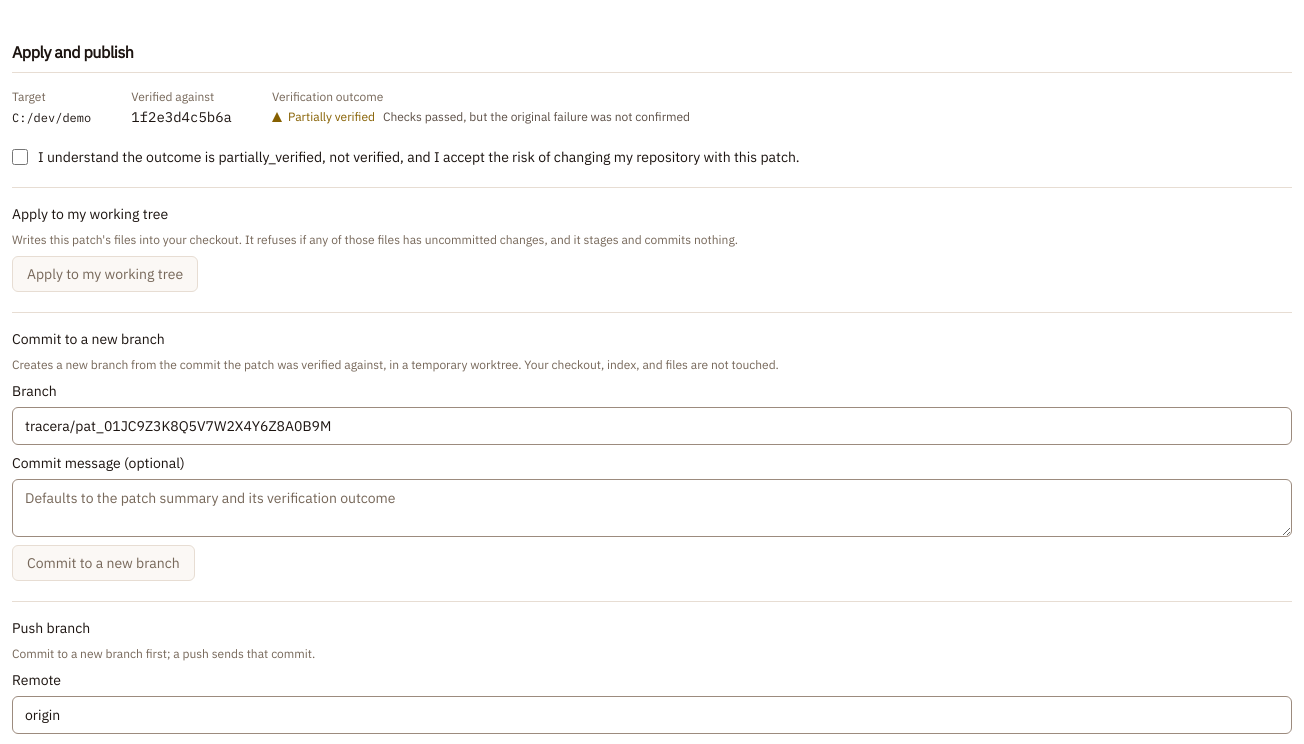
Test: the apply and publish panel › puts the unverified outcome in the acknowledgement and sends it
Click the checkbox: (20, 157) [12, 149, 28, 165]
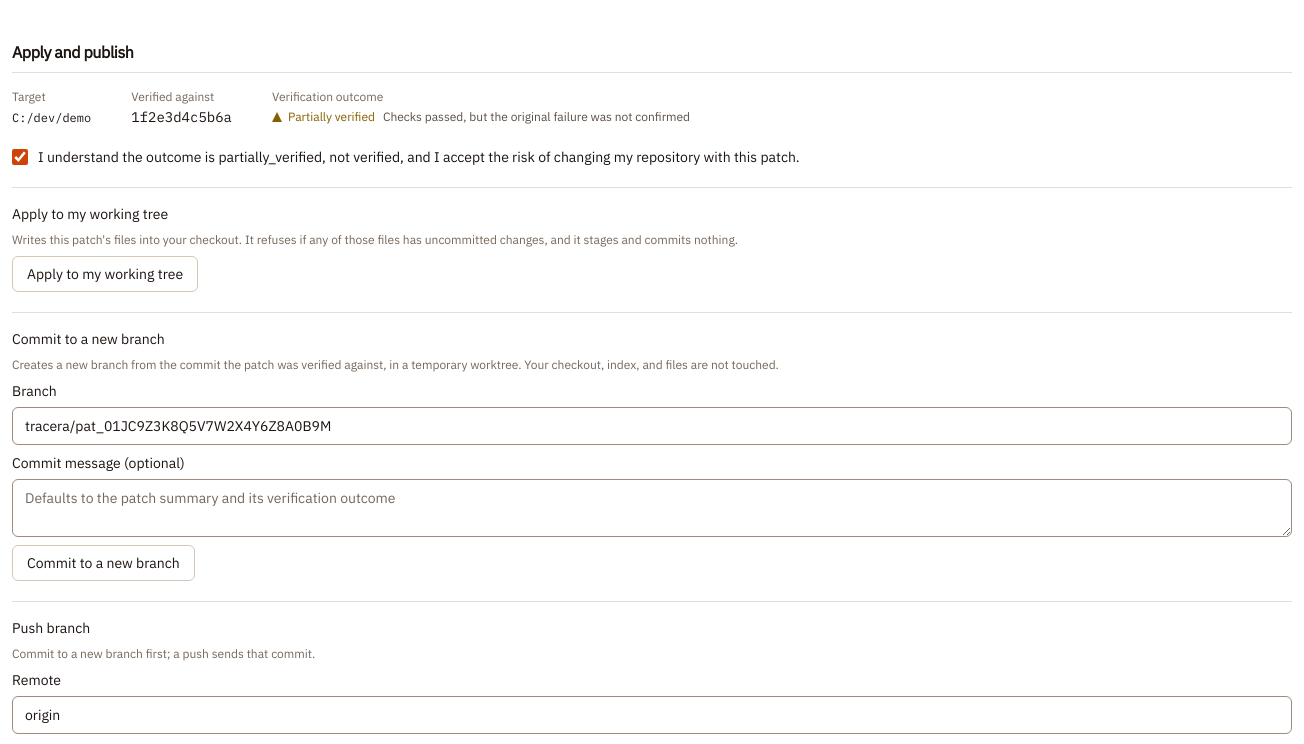
Click the button "Apply to my working tree": (105, 274) [12, 256, 198, 292]
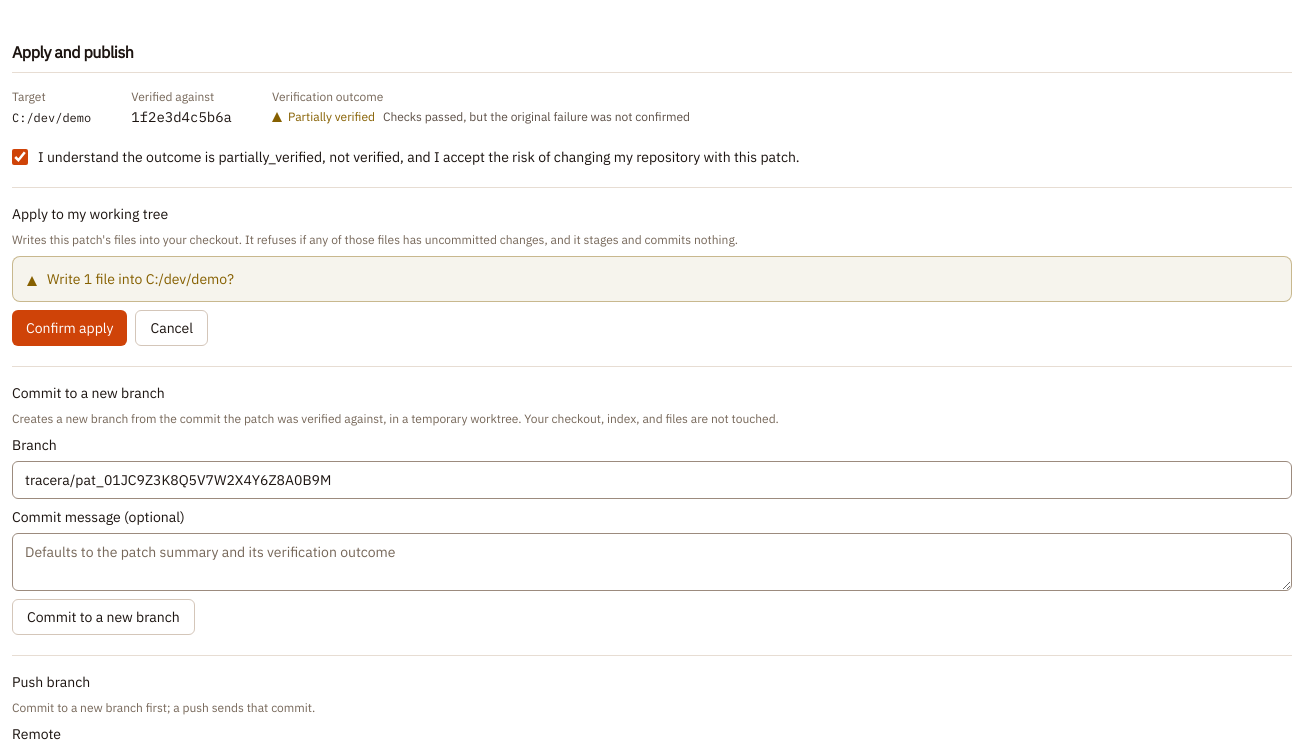
Click the button "Confirm apply": (70, 328) [12, 310, 128, 346]
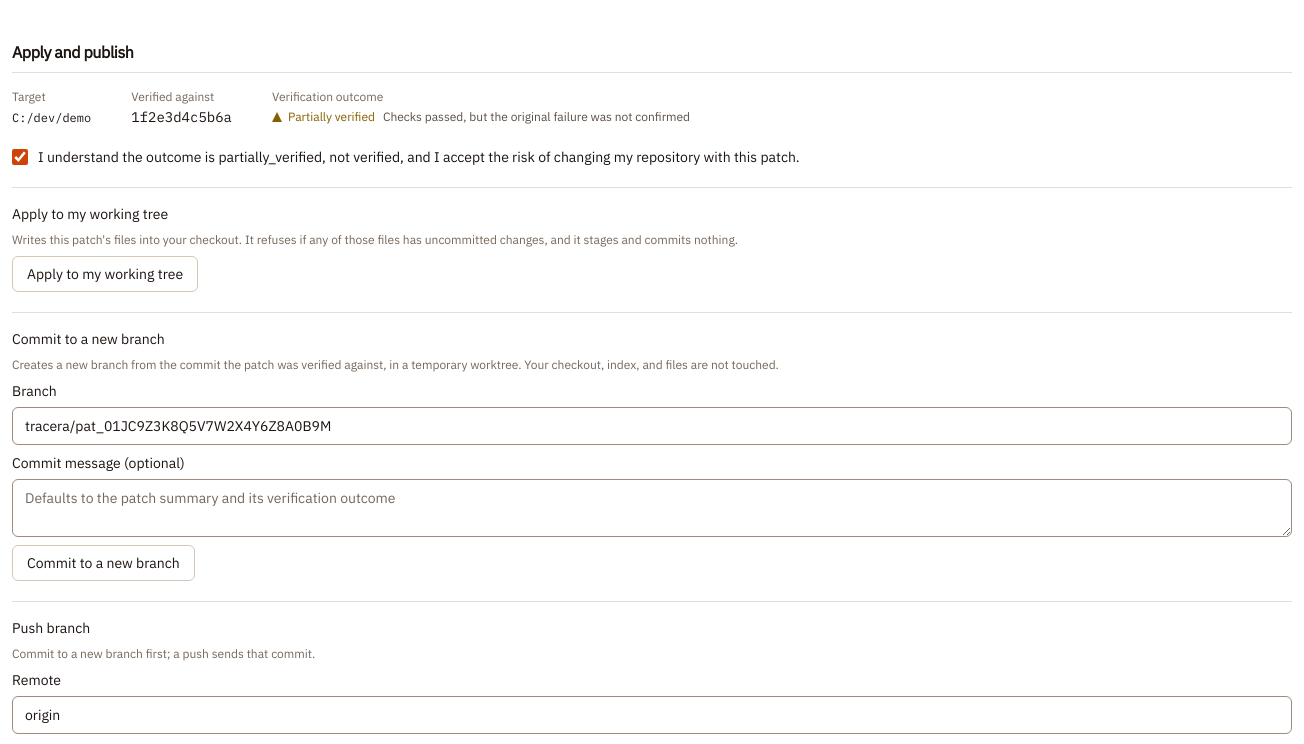
expect the button "Apply to my working tree" is shown: met, box [12, 256, 198, 292]
